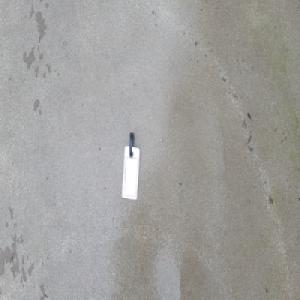LuggageTag: (120, 132, 141, 202)
